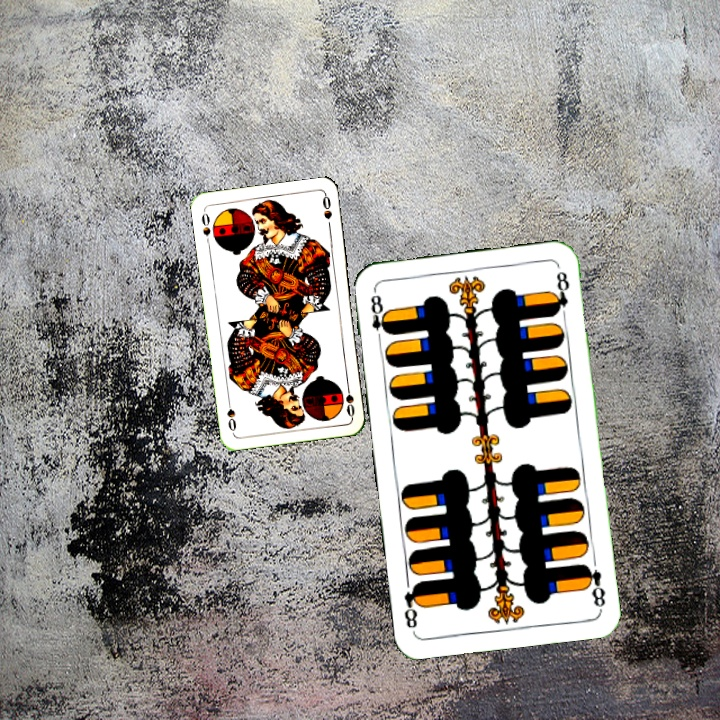E8: (366, 286, 392, 345), (579, 560, 608, 612)
SO: (197, 207, 213, 247), (342, 379, 357, 419)
